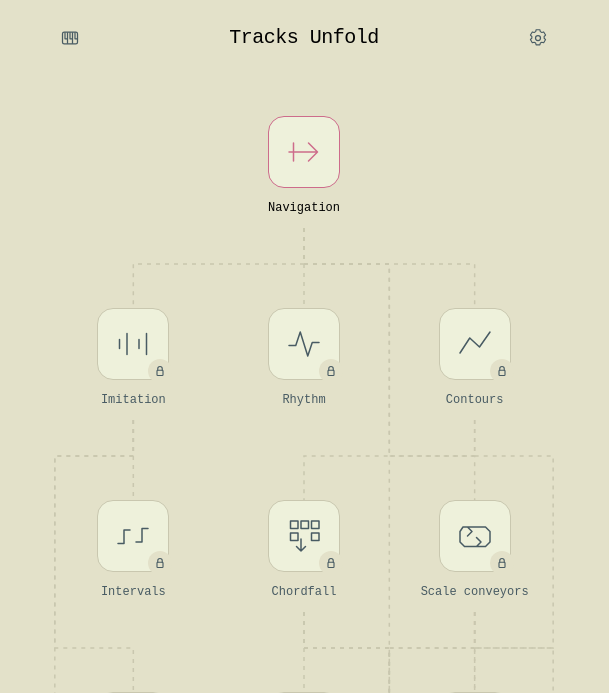
Test case: App › does not treat saved prototype sound choices as earned content
Click the button named "Instrument". click: (70, 38)
box: left=48, top=16, right=92, bottom=60
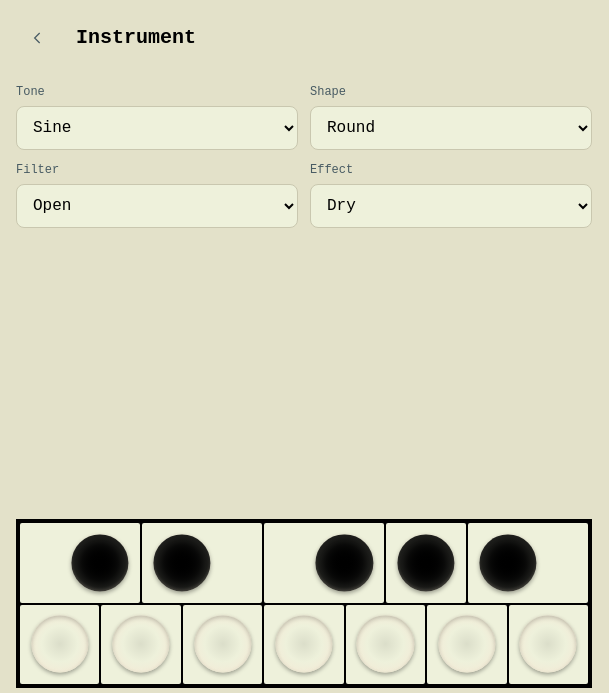
Check: the dropdown labelled "Tone" shows "Sine", box left=16, top=106, right=298, bottom=150
Check: the dropdown labelled "Shape" shows "Round", box left=310, top=106, right=592, bottom=150
Check: the dropdown labelled "Filter" shows "Open", box left=16, top=184, right=298, bottom=228
